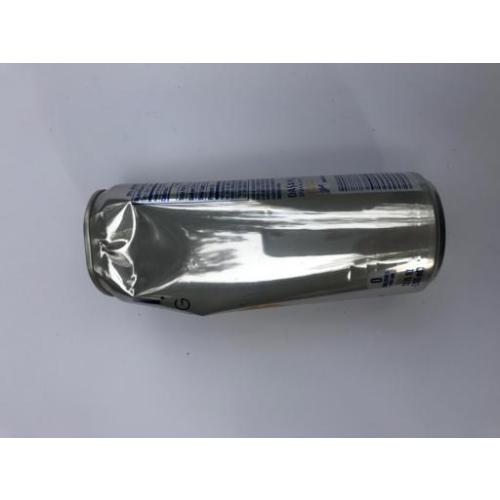metal: (86, 176, 445, 316)
